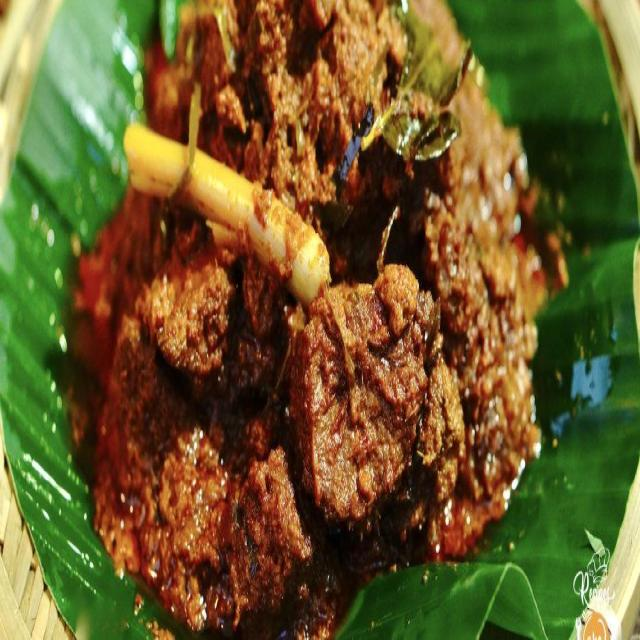Rendang: (75, 6, 542, 640)
